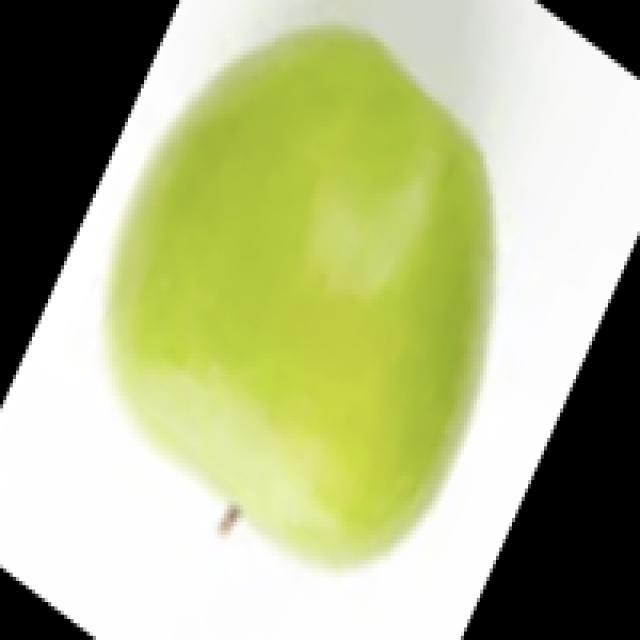Apple: (103, 22, 495, 570)
